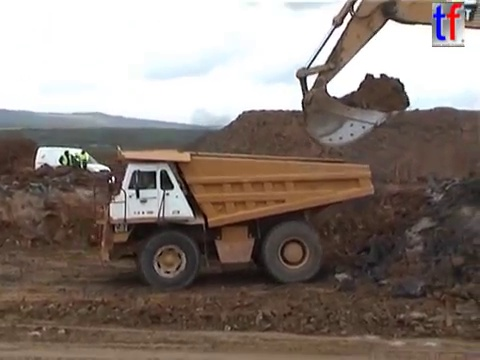truck: (90, 142, 375, 290), (292, 1, 480, 150)
worker: (57, 147, 77, 186), (74, 146, 91, 185)
